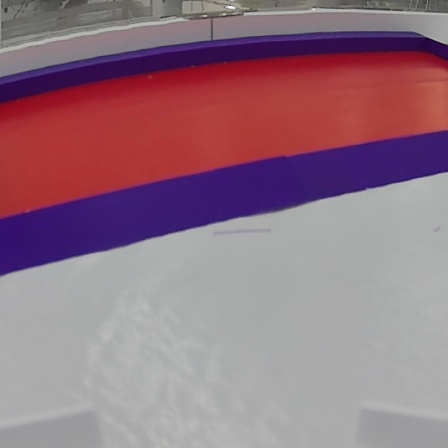red_aim: (1, 29, 448, 278)
